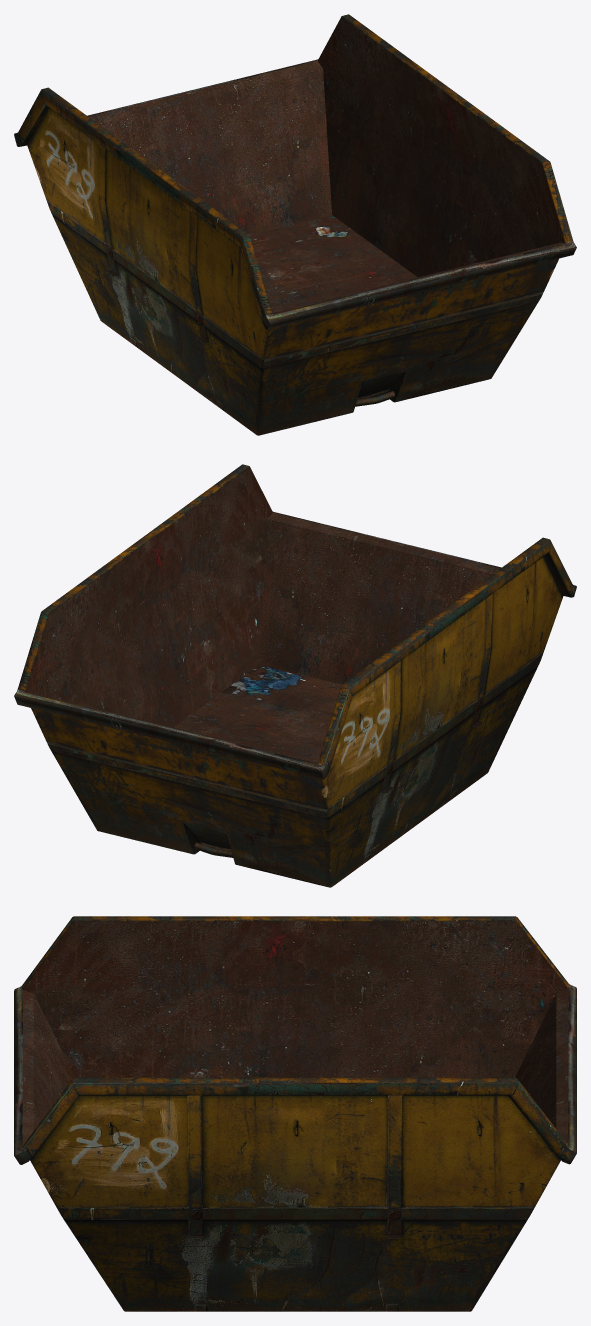
The model's file is TrashContainer.FBX.
3 renders of one model, top to bottom at view 1: azimuth 30°, elevation 25°; view 2: azimuth 150°, elevation 25°; view 3: azimuth 270°, elevation 25°, orthographic. The views are drawn at different scales.
Visible parts, largest first — view 1: Mesh_0040; view 2: Mesh_0040; view 3: Mesh_0040.
Part boxes in pixels (left/top/right/bottom): Mesh_0040: left=14, top=14, right=576, bottom=435; Mesh_0040: left=14, top=464, right=576, bottom=887; Mesh_0040: left=14, top=916, right=576, bottom=1311.
Size of the model in its own units: 20.81 by 14.56 by 29.83.
Materials: 1 (1 with a texture image).
